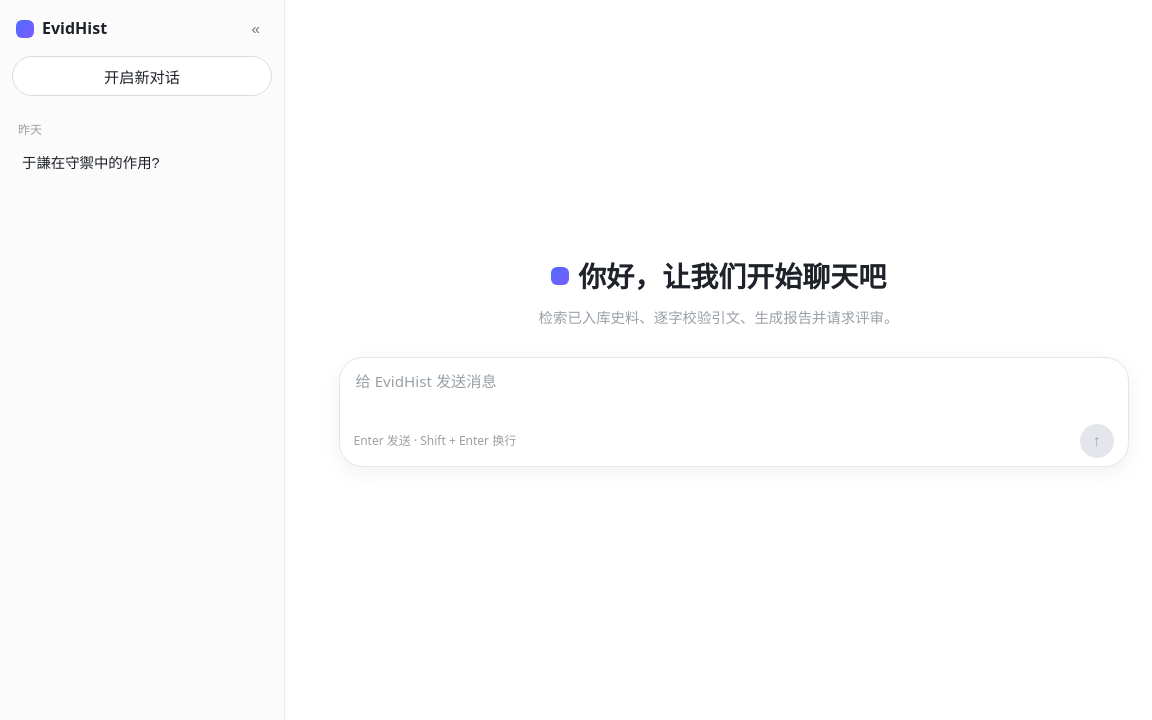
Test: chat view › lists conversations and shows stored messages
Step 1. Click the button "于謙在守禦中的作用?" → (142, 161), box [12,143,272,180]
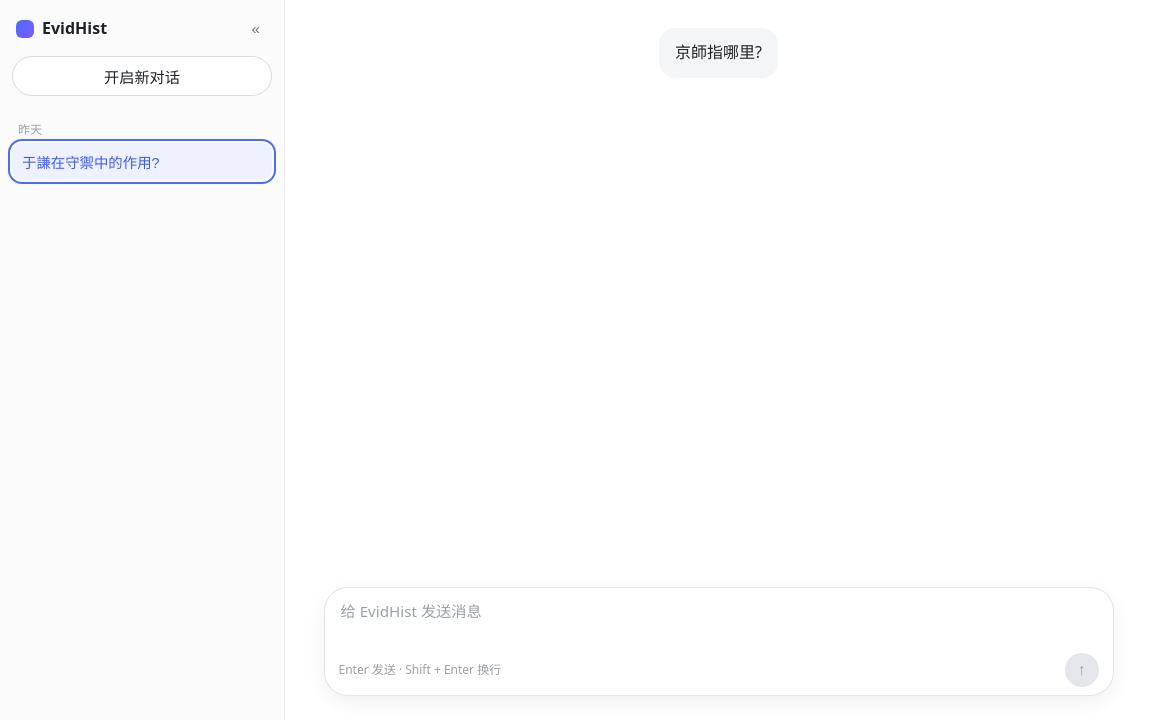
Check: the text "京師指哪里?" is shown, box [675,40,762,66]
